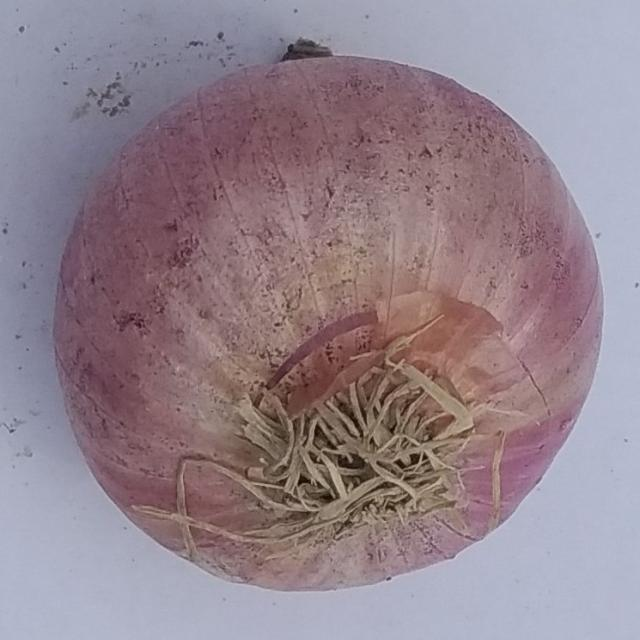onion: (51, 41, 606, 594)
